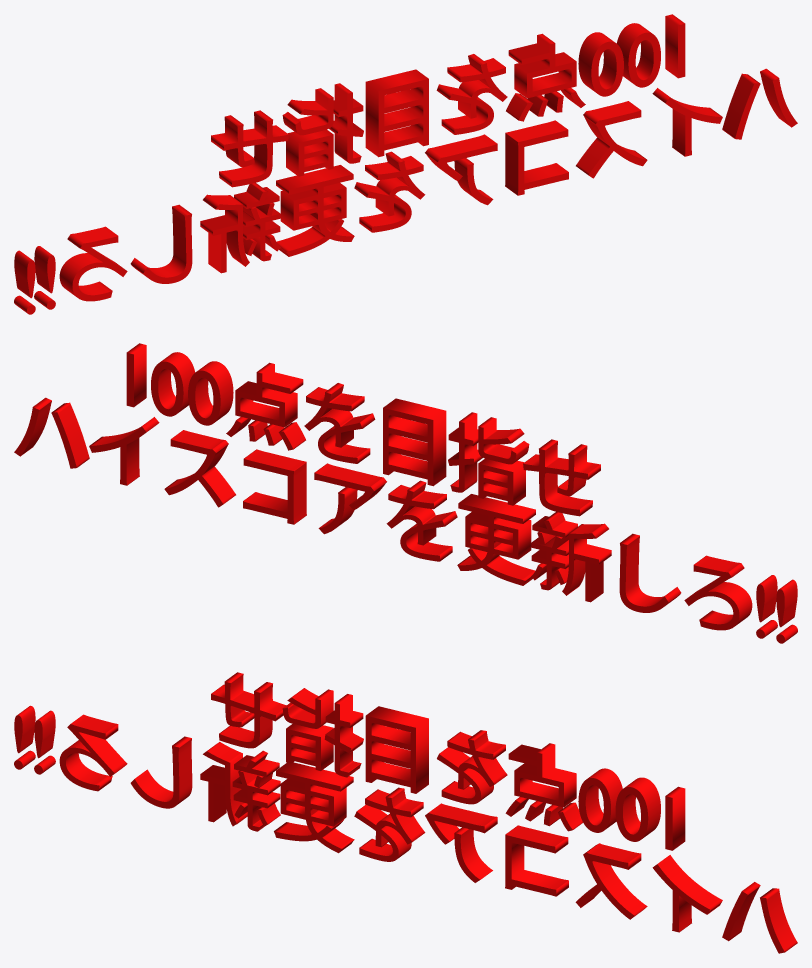
File: MissionText.obj
3 views of the same model, one above another, from view 1: azimuth 30°, elevation 25°; view 2: azimuth 150°, elevation 25°; view 3: azimuth 330°, elevation 25° (orthographic).
Parts seen in each view (by area): view 1: テキスト; view 2: テキスト; view 3: テキスト.
Boxes of the visible parts, x1,y1,x2,y2 form: テキスト: [14, 14, 797, 314]; テキスト: [14, 343, 797, 643]; テキスト: [14, 672, 797, 953].
Bounding box in the file's own units: 20.78 × 3.84 × 0.6.
